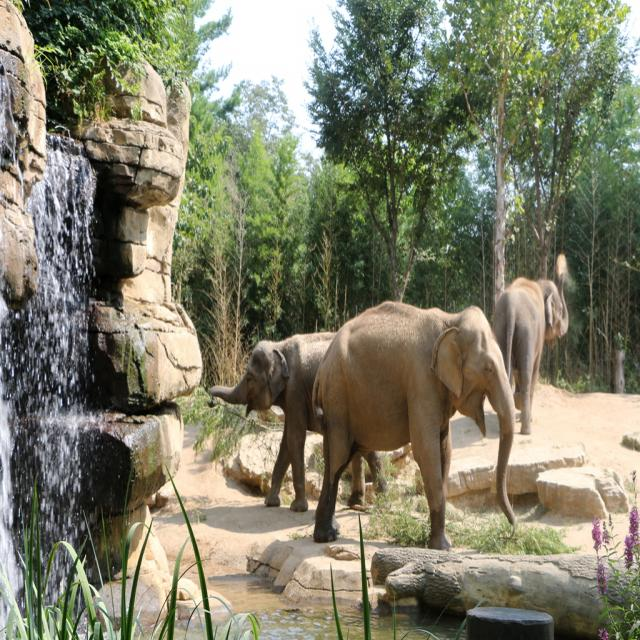elephant: (310, 299, 516, 540), (214, 335, 392, 510), (498, 282, 567, 434)
